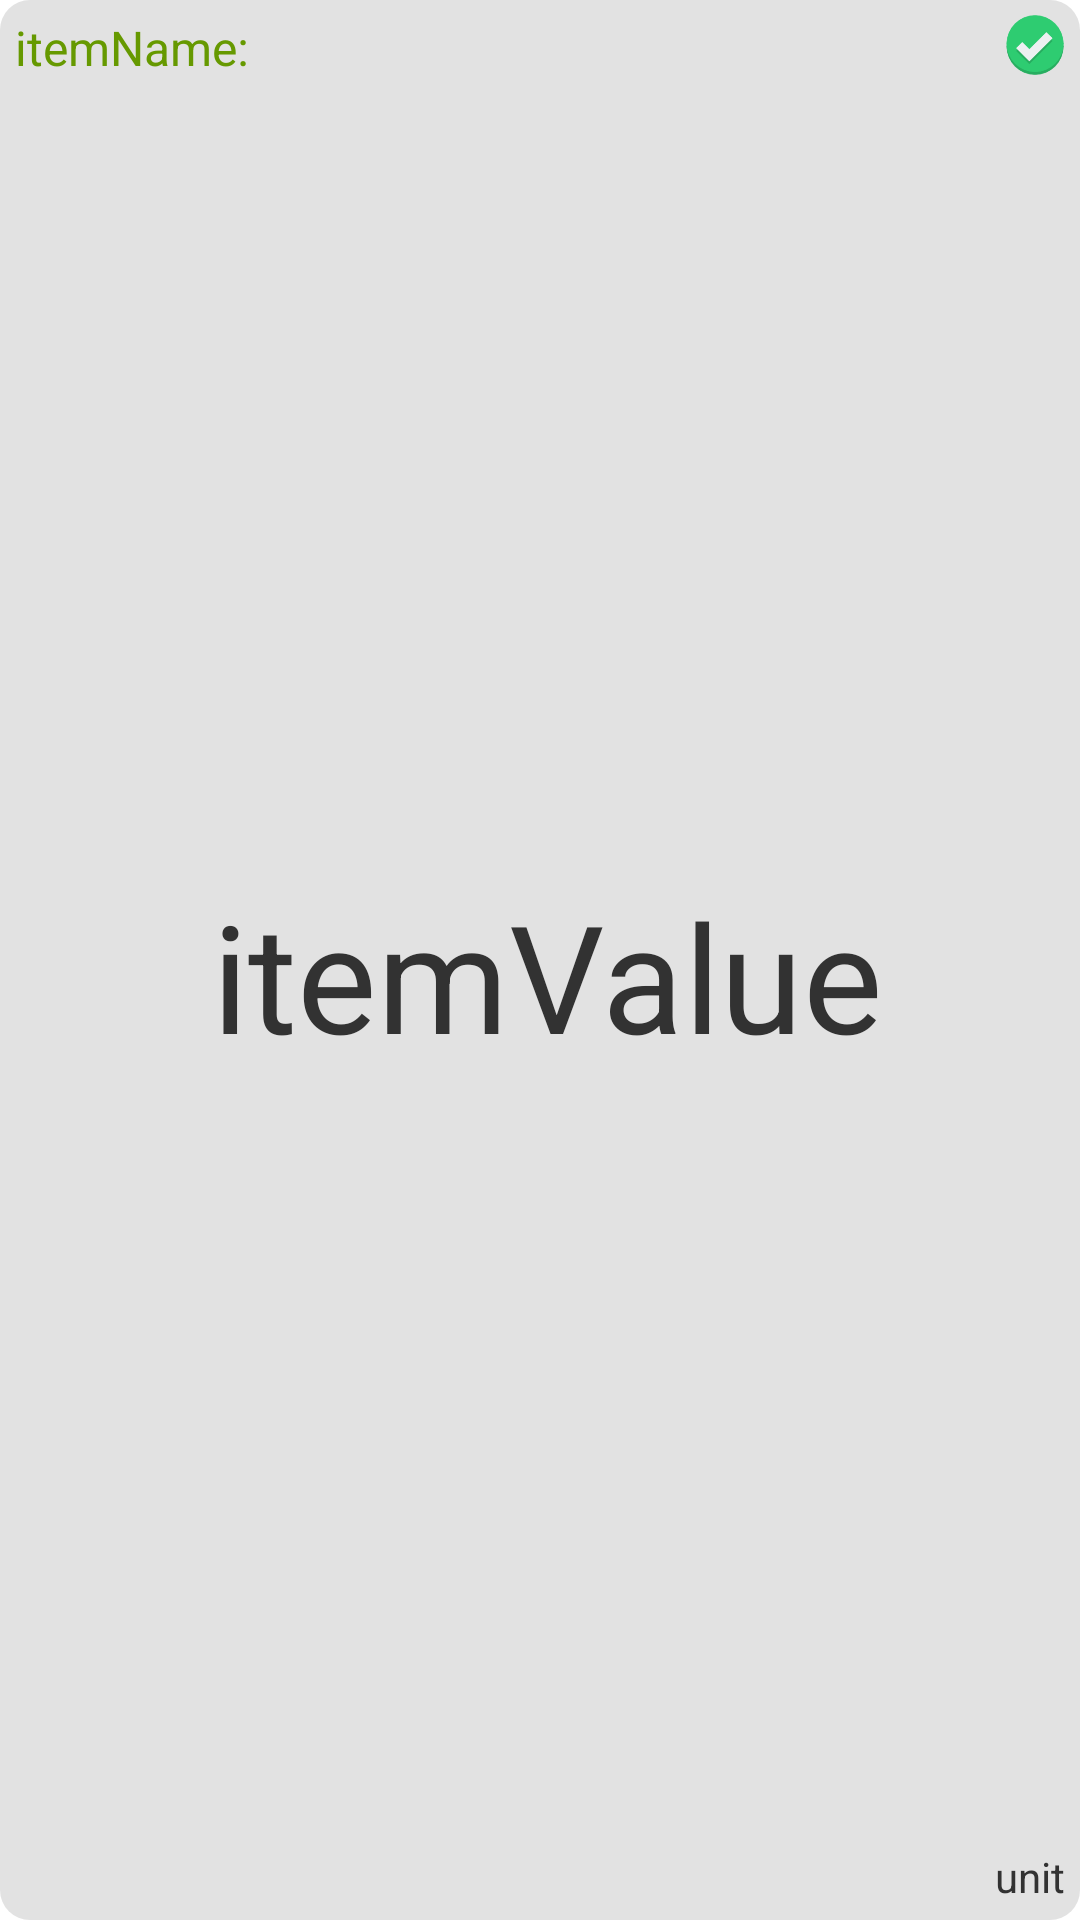

Locate icon controls on the screen. Image size 1080w x 1920h, boxes as (x1, y1, x2, y2).
check mark: (1006, 0, 1080, 75)
